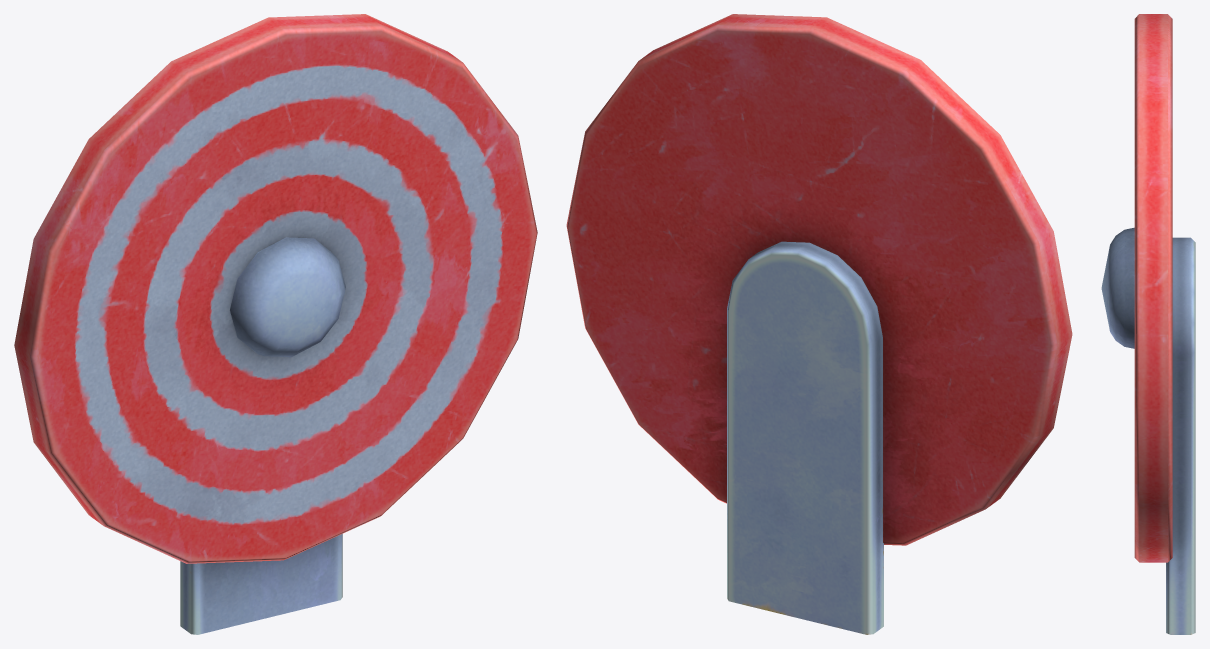
The model's file is SM_Standup.fbx.
The picture shows the model from 3 angles, left to right: view 1: azimuth 30°, elevation 25°; view 2: azimuth 150°, elevation 25°; view 3: azimuth 270°, elevation 25°; orthographic projection. The views are drawn at different scales.
Visible parts, largest first — view 1: SM_Standup_01; view 2: SM_Standup_01; view 3: SM_Standup_01.
Part boxes in pixels (x1=…): SM_Standup_01: x1=14, y1=14, x2=537, y2=634; SM_Standup_01: x1=566, y1=14, x2=1072, y2=634; SM_Standup_01: x1=1101, y1=14, x2=1195, y2=634.
Bounding box in the file's own units: 237 × 267 × 40.52.
